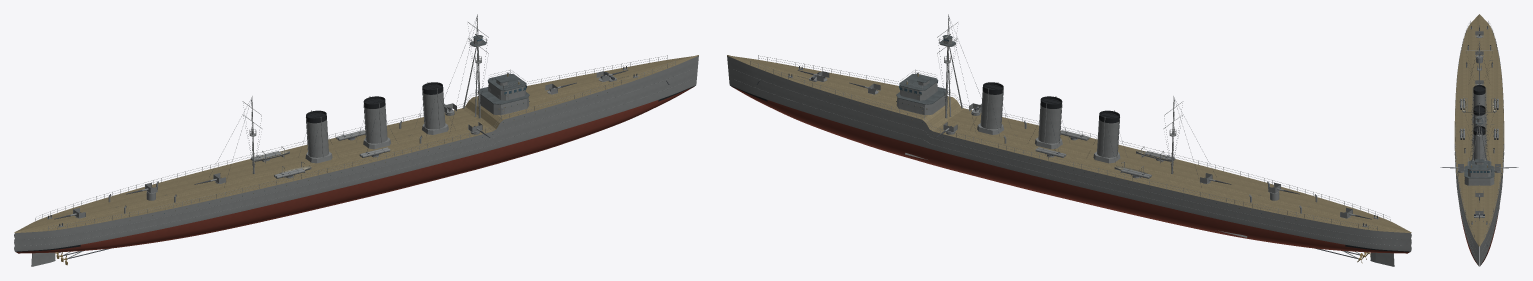
The model's file is nagara.glb.
3 views of the same model, side by side, from view 1: azimuth 30°, elevation 25°; view 2: azimuth 150°, elevation 25°; view 3: azimuth 270°, elevation 25° (orthographic). The views are drawn at different scales.
Visible parts, largest first — view 1: Nagara class; view 2: Nagara class; view 3: Nagara class.
Boxes of the visible parts, box(x1,y1,x2,y2) form: Nagara class: box(14, 14, 698, 266); Nagara class: box(727, 14, 1411, 266); Nagara class: box(1440, 14, 1518, 266).
Size of the model in its own units: 163 by 33.18 by 22.59.
Materials: 9 (8 with a texture image).
